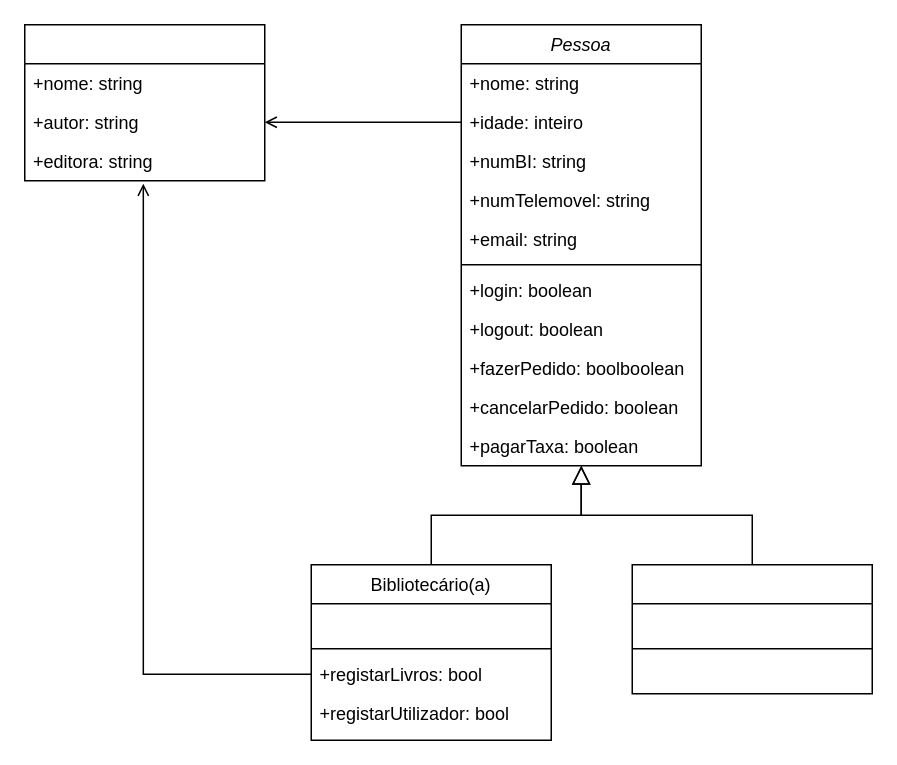
This 897x765 diagram has some shape labels left out. The box of each missing label's shape, as (x1, y1, x2, y2) in pixels:
Leitor(a): (631, 563, 872, 694)
Livro: (23, 23, 265, 181)
